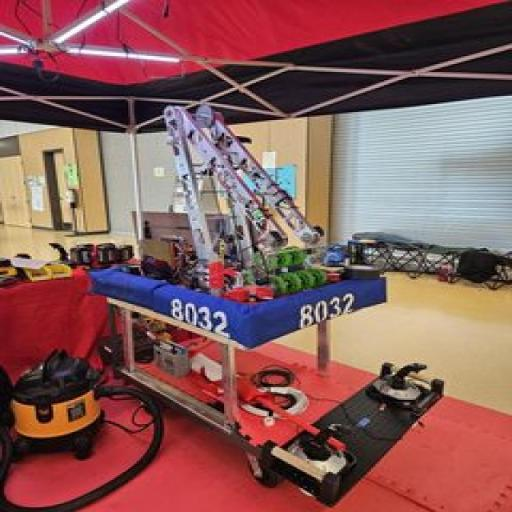robot: (86, 98, 392, 345)
